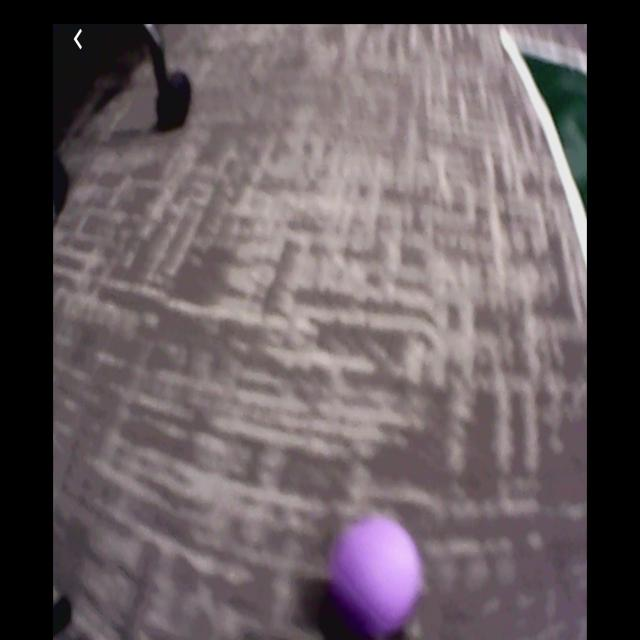ball: (327, 515, 426, 638)
